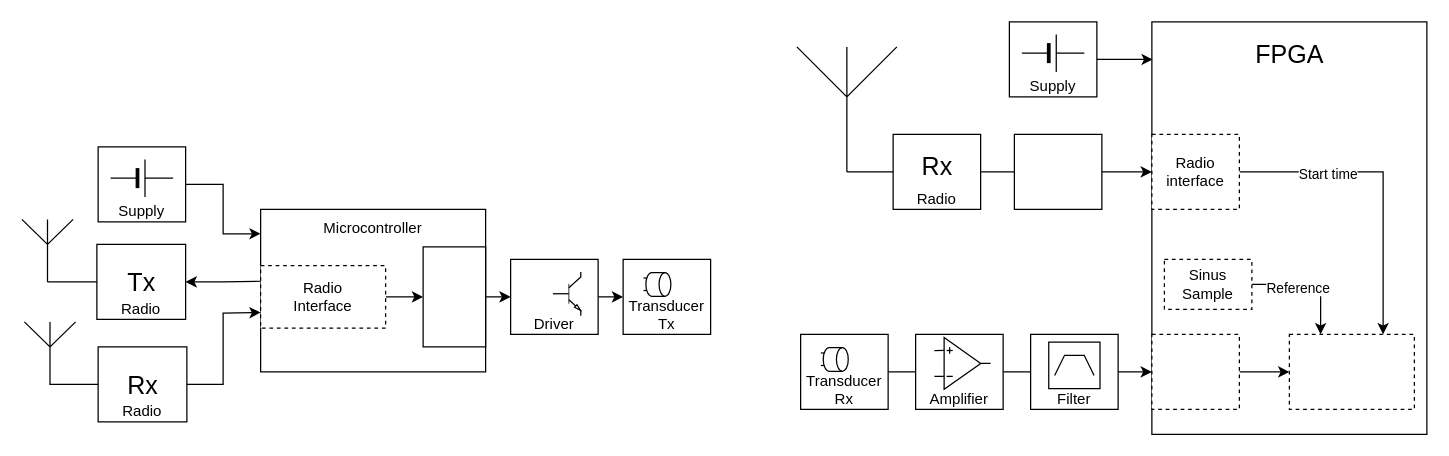
This 1449x456 diagram has some shape labels left out. Each missing label, with the centre of its shape:
"ADC" goes at (x=1195, y=371).
"Arduino nano" goes at (x=1057, y=171).
"GPIO" goes at (x=454, y=296).
"Time Calculation" goes at (x=1351, y=371).
